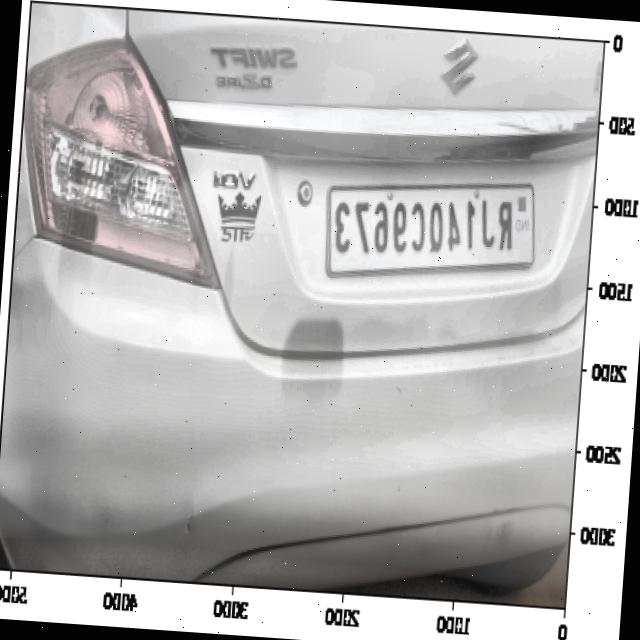license_plate: (328, 176, 523, 273)
